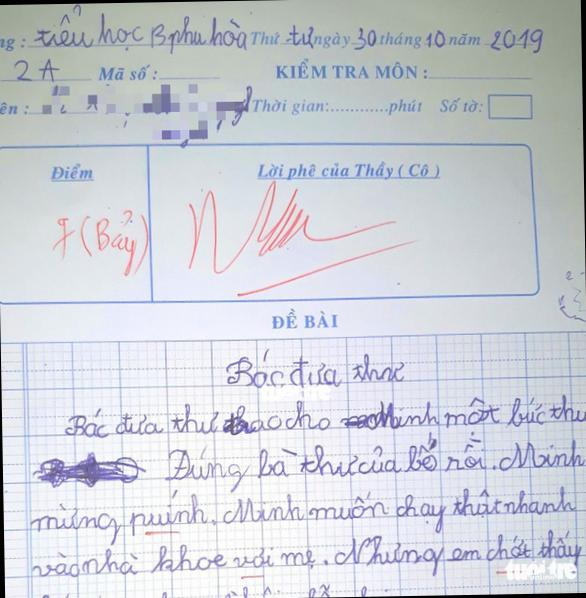text: (25, 428, 586, 498), (26, 480, 578, 548), (0, 0, 546, 64), (31, 525, 586, 586), (181, 175, 428, 297), (60, 392, 586, 440), (223, 344, 408, 393), (50, 206, 151, 282), (255, 158, 444, 184), (274, 54, 429, 85), (386, 94, 485, 116), (250, 95, 330, 120), (269, 305, 341, 332), (504, 558, 578, 582), (96, 62, 160, 86), (11, 55, 60, 85), (49, 159, 95, 183), (0, 98, 20, 119)
